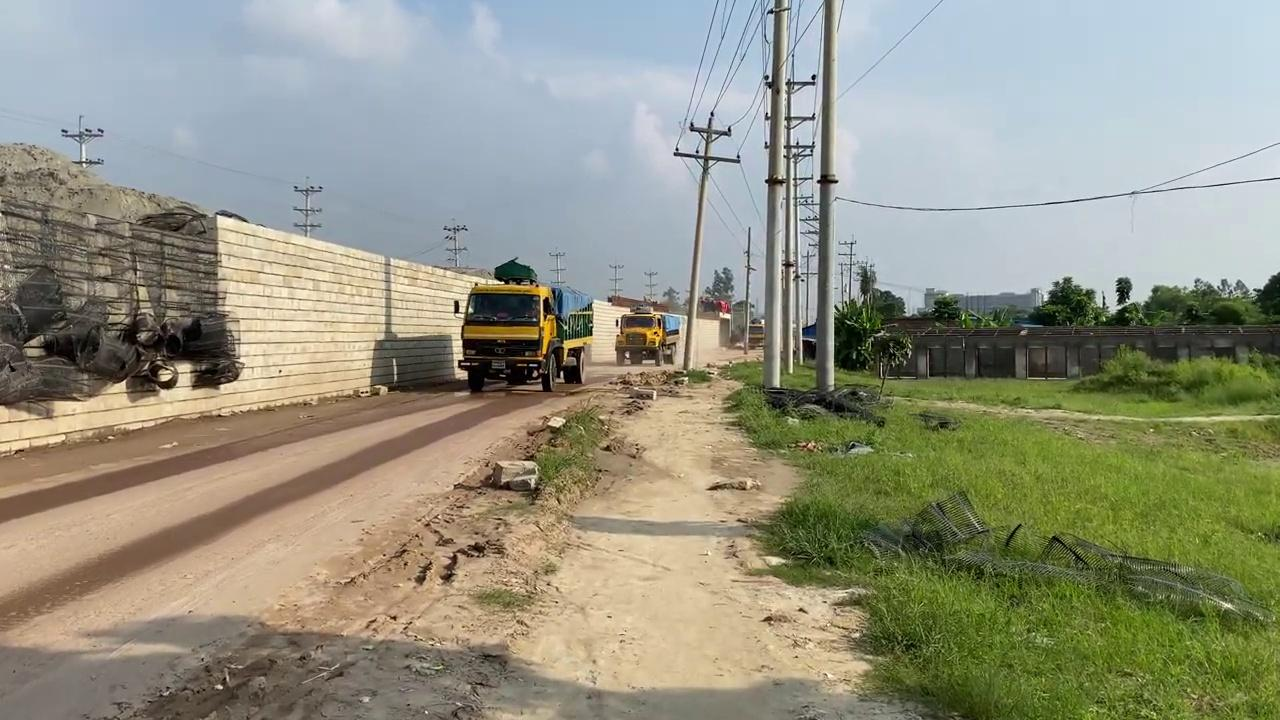Garbage: (861, 488, 1275, 626), (0, 263, 243, 404)
Muddy road: (1, 326, 947, 718)
Pole: (761, 0, 790, 388), (814, 0, 842, 393)
Rickshaw: (483, 354, 931, 718)
Tree: (453, 256, 594, 393), (613, 305, 682, 366)
